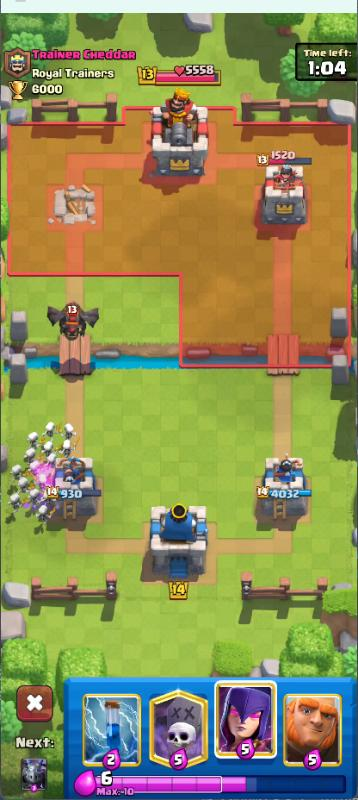squelette: (7, 492, 24, 515), (58, 439, 78, 456), (36, 505, 53, 525), (60, 421, 78, 439), (41, 420, 57, 439), (28, 486, 41, 506), (16, 475, 30, 492), (42, 440, 56, 456), (10, 463, 23, 480), (27, 460, 42, 474), (23, 447, 38, 460), (27, 432, 40, 446)
